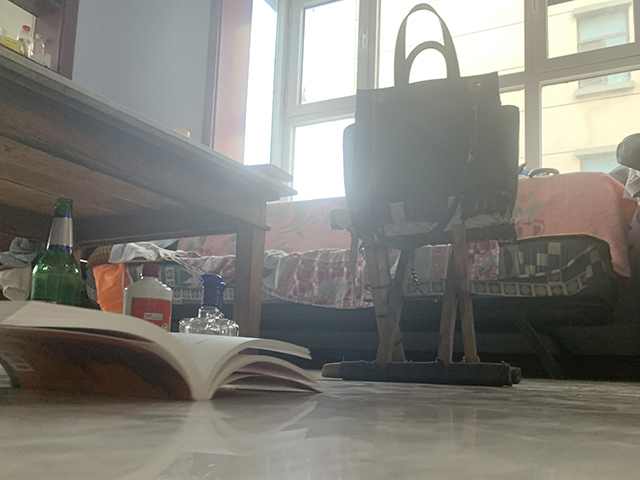book: (1, 299, 324, 402)
sofa: (83, 170, 638, 382)
stool: (320, 188, 523, 388)
table: (1, 42, 300, 338)
